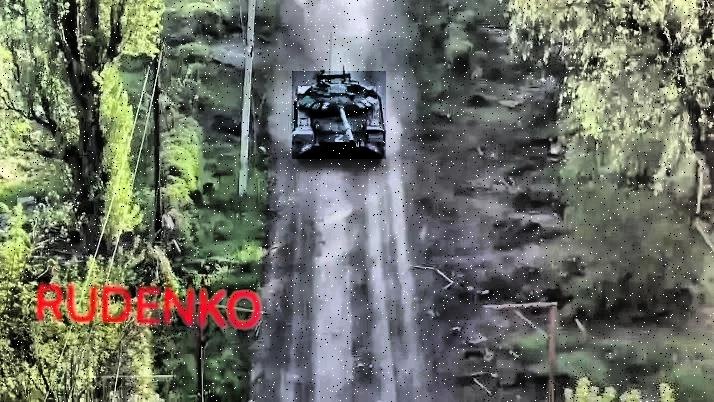military-vehicle: (292, 71, 386, 159)
